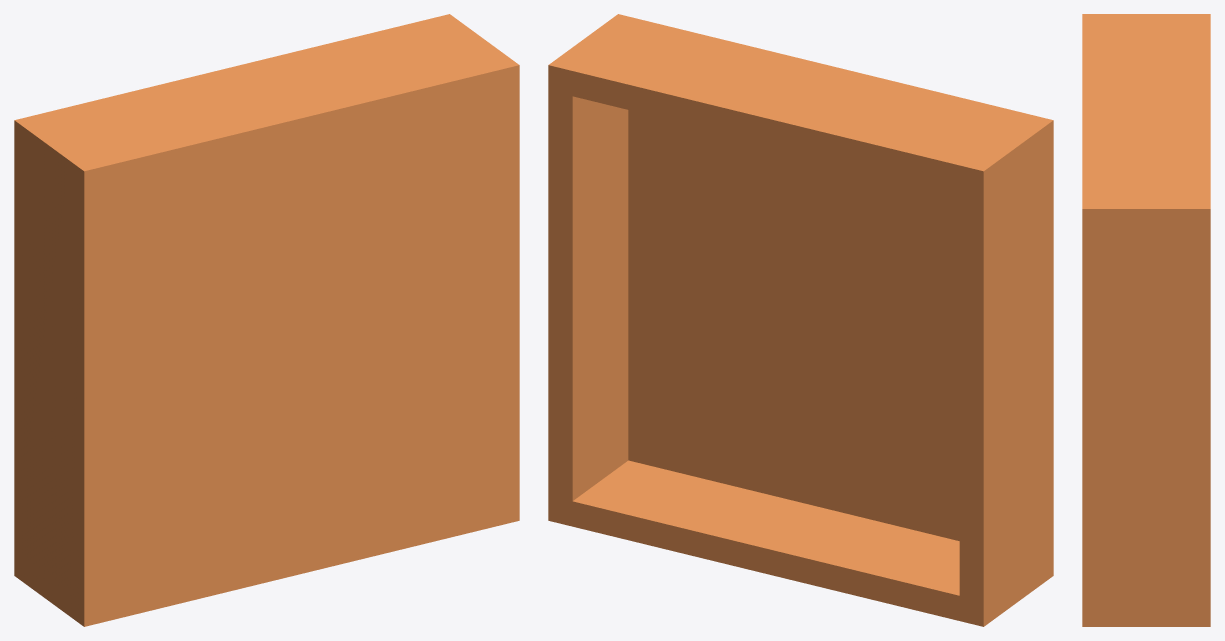
3 renders of one model, left to right at view 1: azimuth 30°, elevation 25°; view 2: azimuth 150°, elevation 25°; view 3: azimuth 270°, elevation 25°, orthographic. The views are drawn at different scales.
Visible parts, largest first — view 1: cube, cube_2, cube_3, cube_1; view 2: cube, cube_2, cube_3, cube_4, cube_1; view 3: cube_4, cube_3, cube, cube_2.
Boxes of the visible parts, x1,y1,x2,y2 form: cube: (70, 55, 519, 626); cube_2: (14, 114, 93, 590); cube_3: (39, 14, 505, 154); cube_1: (14, 551, 70, 616); cube: (604, 14, 1053, 585); cube_2: (959, 124, 1039, 601); cube_3: (548, 24, 1014, 190); cube_4: (548, 90, 628, 526); cube_1: (572, 460, 1039, 626); cube_4: (1108, 232, 1210, 626); cube_3: (1108, 24, 1210, 232); cube: (1082, 14, 1107, 626); cube_2: (1108, 14, 1210, 24).
Size of the model in its own units: 112 by 112 by 31.25.
1 material, 1 textured.
